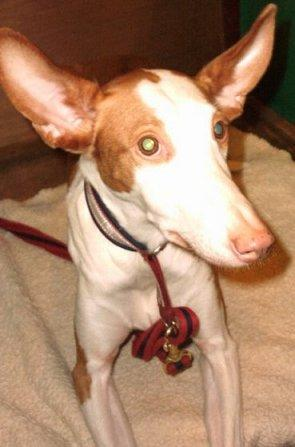Ibizan_hound: (0, 3, 273, 445)
